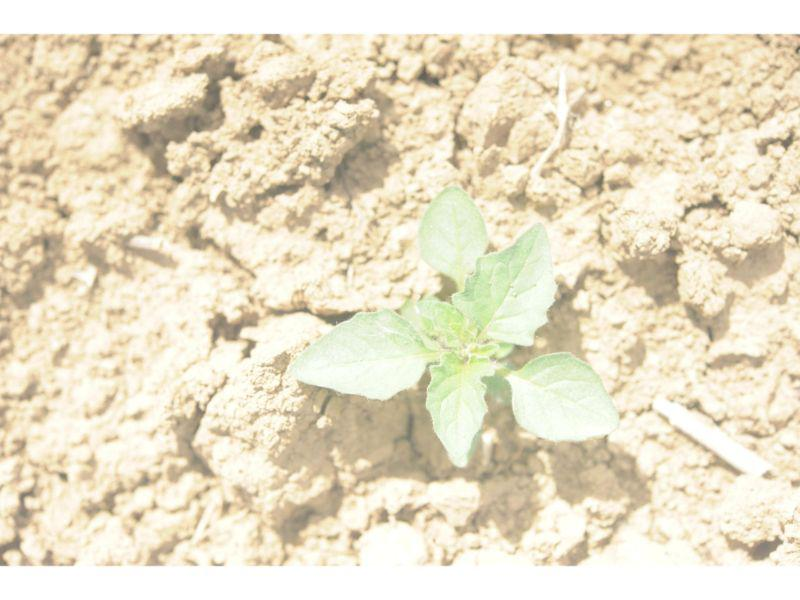nightshade: (290, 187, 618, 469)
